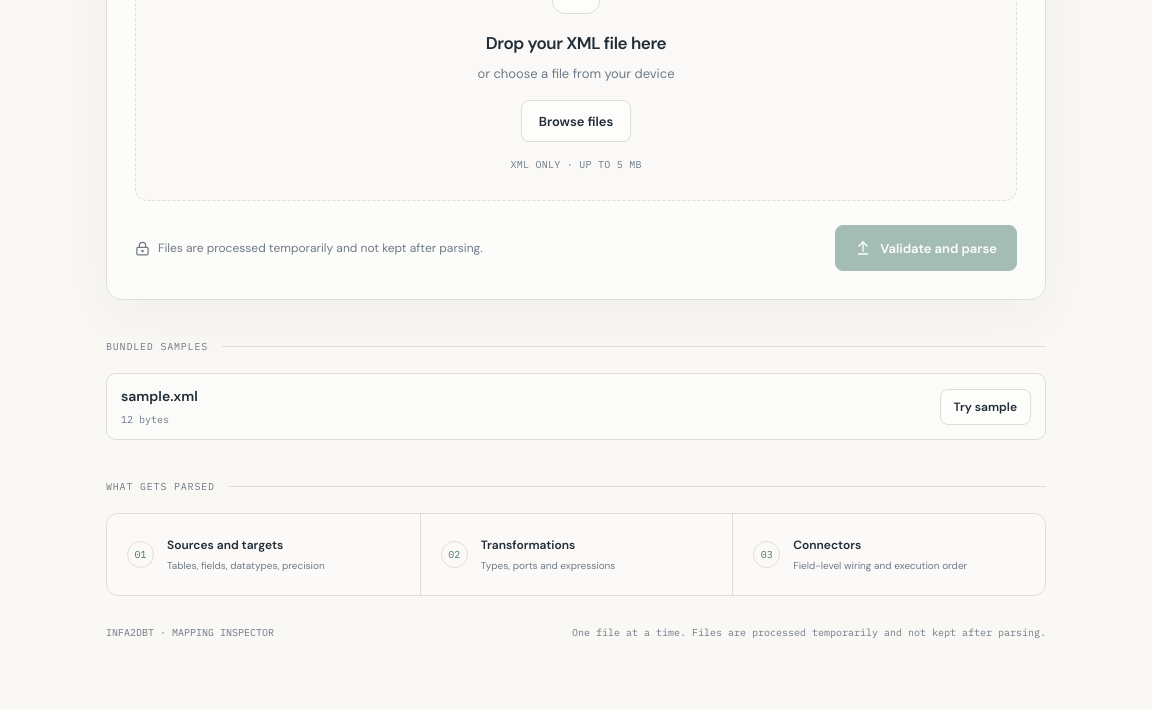
Scenario: DuckDB validation › shows an accessible progress state while validation is pending
(page scrolled)
Click the button with test id "button-try-sample-sample.xml": (985, 407) [940,389,1031,425]
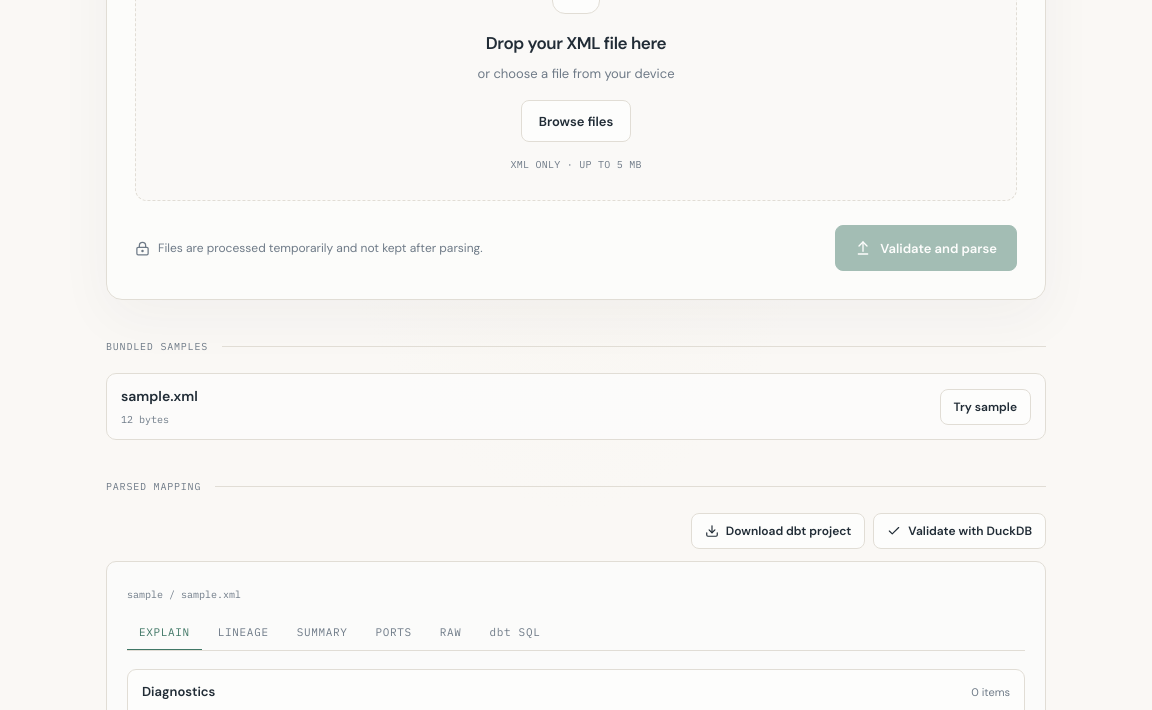
Expected: the button with test id "button-validate-dbt-project" is shown
Click the button with test id "button-validate-dbt-project": (960, 531) [873,513,1046,549]
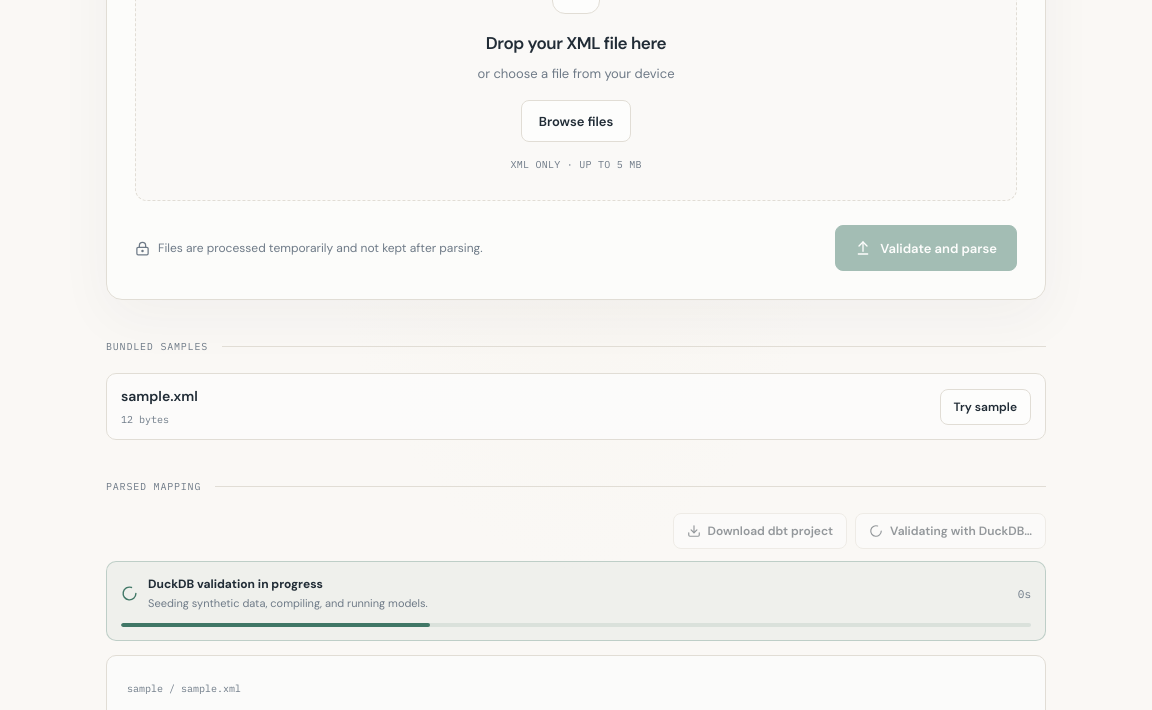
Expected: the message with test id "status-dbt-validation" shows "Seeding synthetic data, compiling, and running models.", [148,596,428,610]
Expected: the text with test id "validation-elapsed" reads "0s", [1018,586,1031,602]
